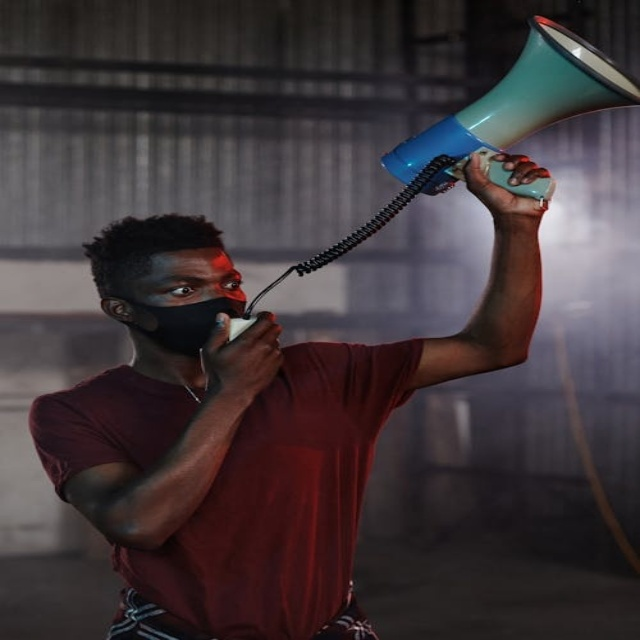Mascara: (115, 292, 251, 355)
Sin_gafas: (147, 269, 244, 299)
Sin_guantes: (196, 301, 284, 394), (465, 148, 557, 218)
